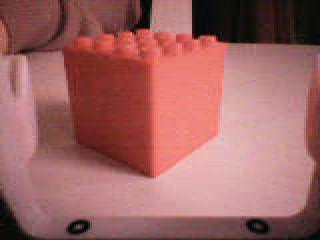legocube: (59, 28, 230, 182)
